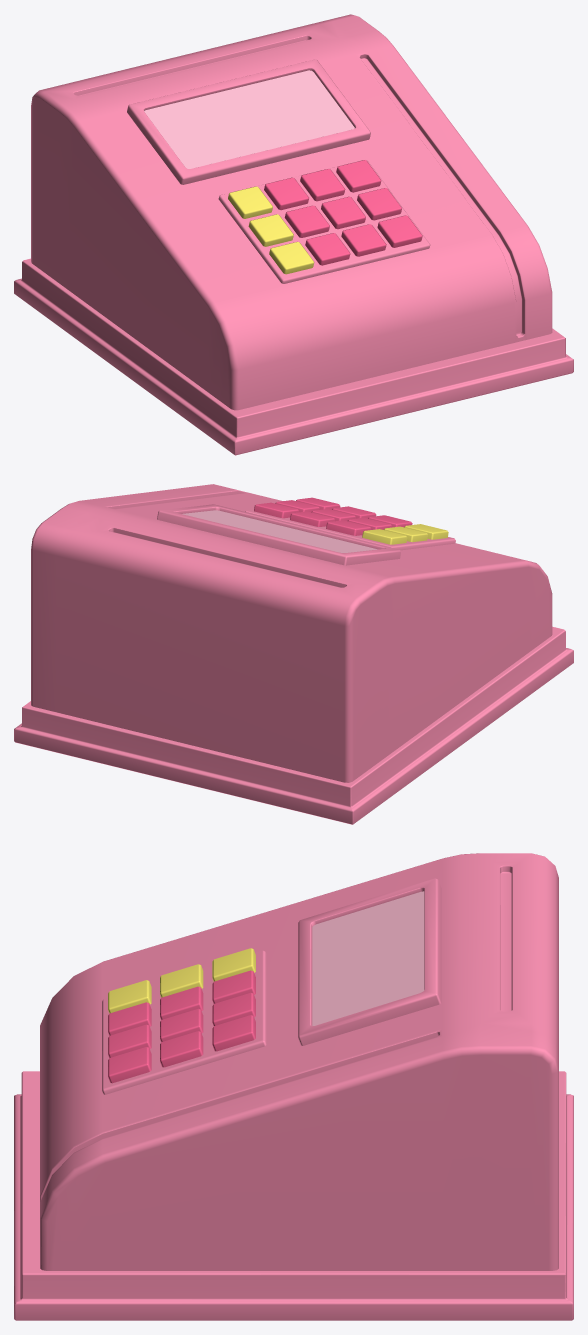
The model's file is Public_1_Payment_Terminal_1.glb.
The picture shows the model from 3 angles, top to bottom: view 1: azimuth 30°, elevation 25°; view 2: azimuth 150°, elevation 25°; view 3: azimuth 270°, elevation 25°; orthographic projection. The views are drawn at different scales.
Parts seen in each view (by area): view 1: Public_1_Payment_Terminal_1; view 2: Public_1_Payment_Terminal_1; view 3: Public_1_Payment_Terminal_1.
Boxes of the visible parts, box(x1,y1,x2,y2) form: Public_1_Payment_Terminal_1: box(14, 14, 573, 455); Public_1_Payment_Terminal_1: box(14, 484, 573, 824); Public_1_Payment_Terminal_1: box(14, 853, 573, 1320).
Size of the model in its own units: 1.3 by 0.7846 by 1.47.
1 material, 1 textured.
